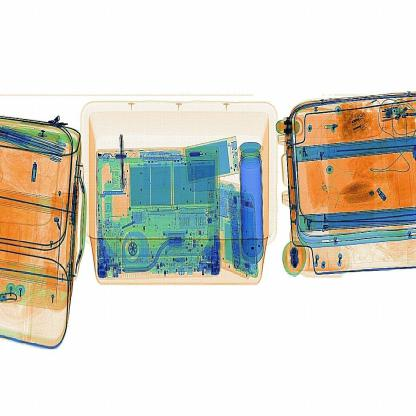knife: (114, 128, 127, 191)
